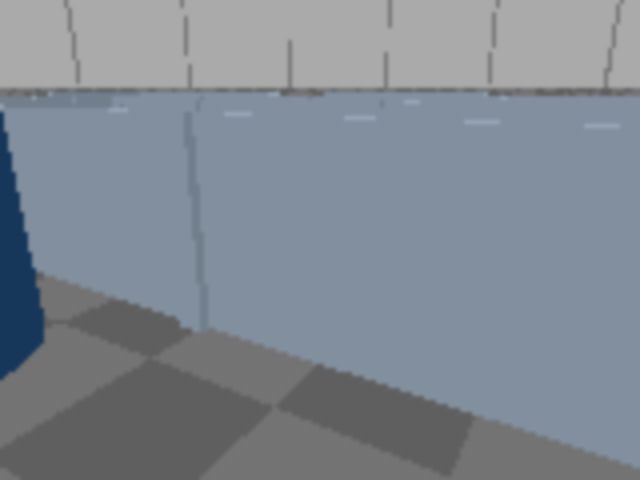person: (0, 0, 30, 432)
